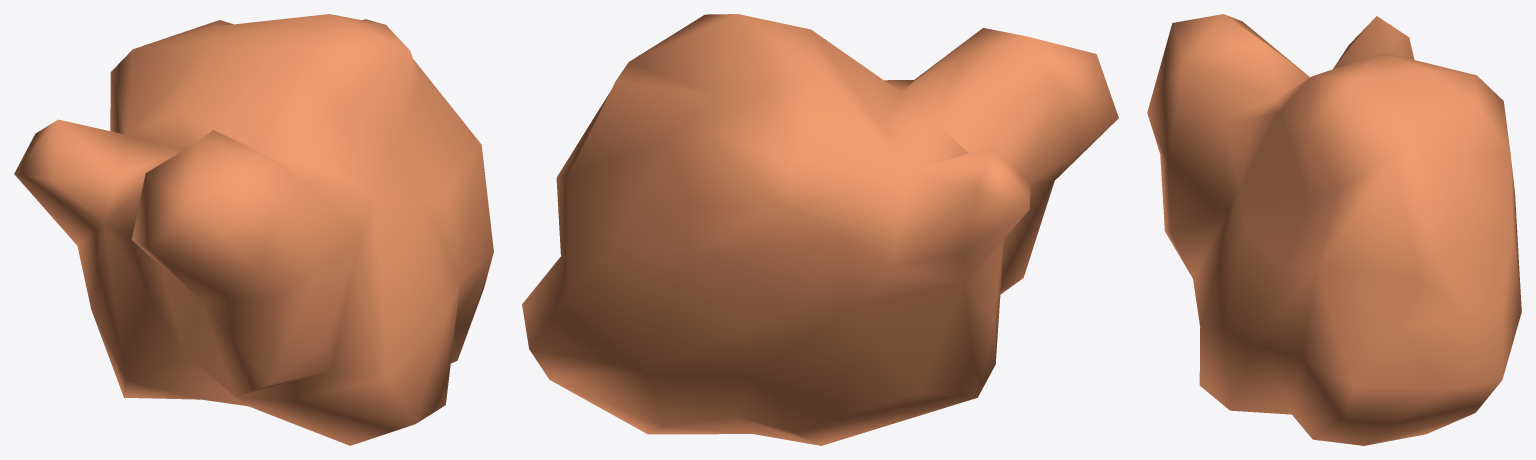
File: Mgenitalium_fruA_2kyr_0_1_0.dae
3 views of the same model, side by side, from view 1: azimuth 30°, elevation 25°; view 2: azimuth 150°, elevation 25°; view 3: azimuth 270°, elevation 25° (orthographic). The views are drawn at different scales.
Visible parts, largest first — view 1: CoarseMS_2kyr; view 2: CoarseMS_2kyr; view 3: CoarseMS_2kyr.
Boxes of the visible parts, box(x1,y1,x2,y2) form: CoarseMS_2kyr: box(14, 14, 493, 445); CoarseMS_2kyr: box(522, 14, 1118, 445); CoarseMS_2kyr: box(1147, 14, 1521, 445).
Size of the model in its own units: 42.06 by 35.13 by 34.09.
